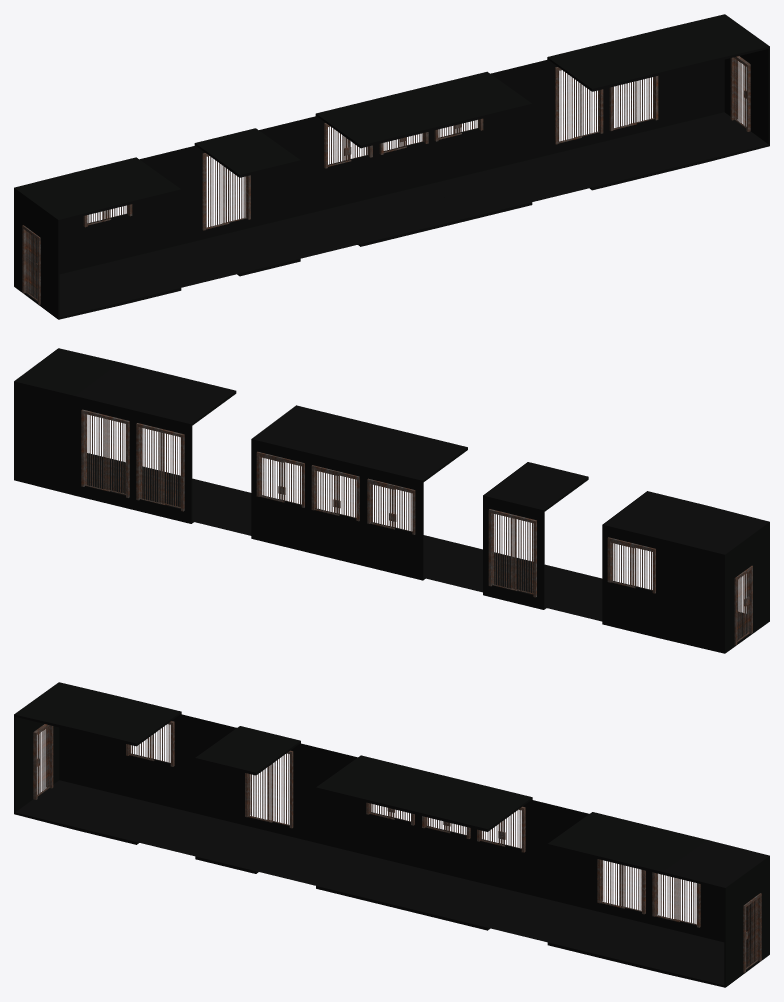
Rendered from corridoio.glb.
The picture shows the model from 3 angles, top to bottom: view 1: azimuth 30°, elevation 25°; view 2: azimuth 150°, elevation 25°; view 3: azimuth 330°, elevation 25°; orthographic projection.
Parts seen in each view (by area): view 1: Cube.001; view 2: Cube.001; view 3: Cube.001.
Part boxes in pixels (<box>): Cube.001: <box>14,14,769,319</box>; Cube.001: <box>14,348,769,653</box>; Cube.001: <box>14,682,769,987</box>.
Size of the model in its own units: 23.42 by 3.18 by 2.62.
2 materials, 2 textured.
